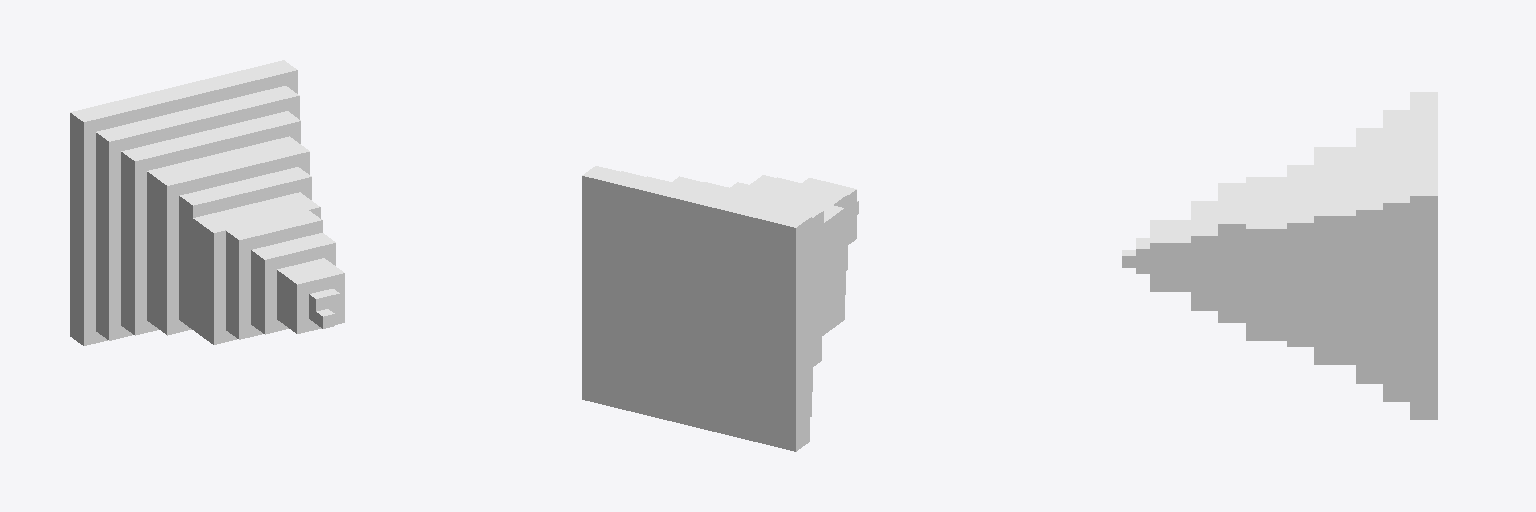
Rendered from obstacle4-3-spike1.obj.
3 views of the same model, side by side, from view 1: azimuth 30°, elevation 25°; view 2: azimuth 150°, elevation 25°; view 3: azimuth 270°, elevation 25° (orthographic).
Parts seen in each view (by area): view 1: spike1; view 2: spike1; view 3: spike1.
Part boxes in pixels (x1,y1,x2,y2): spike1: (70, 60, 344, 345); spike1: (582, 166, 858, 451); spike1: (1122, 92, 1437, 419).
Bounding box in the file's own units: 1.8 × 1.8 × 2.3.